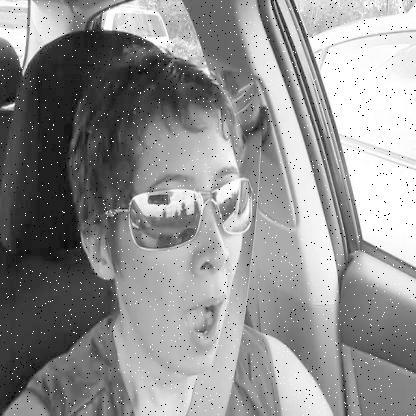seatbelt: (68, 25, 299, 416)
